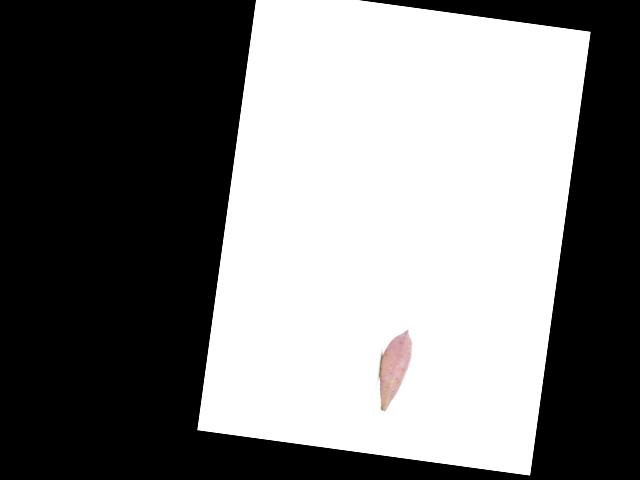sweet_potato: (376, 326, 414, 413)
